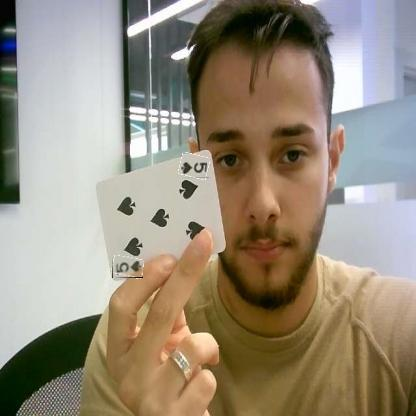5S: (179, 154, 209, 178), (112, 256, 143, 278)
